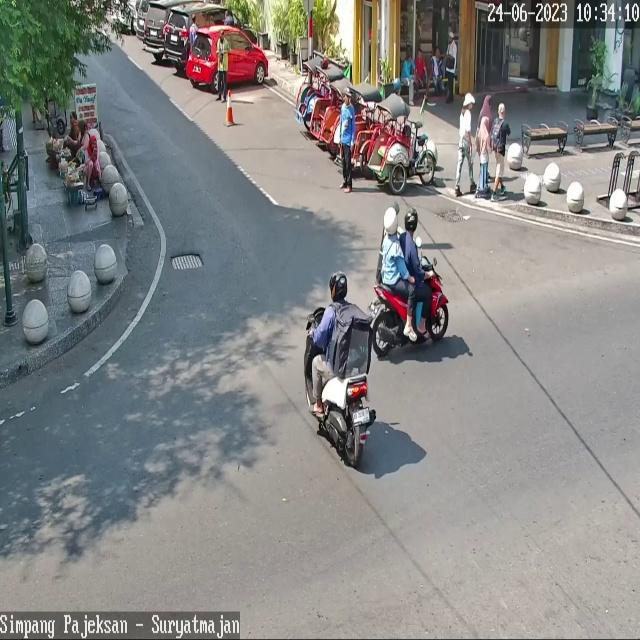bus: (303, 306, 378, 466), (374, 255, 450, 356)
motorcycle: (163, 3, 257, 63), (186, 25, 268, 92), (144, 0, 172, 52)
